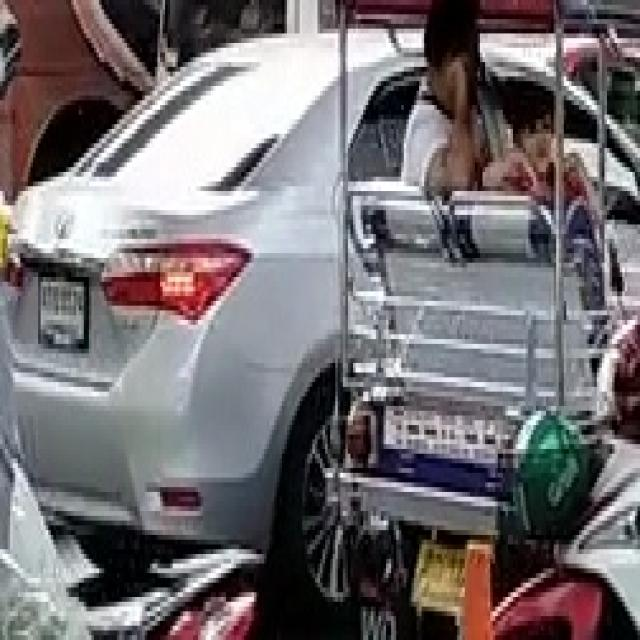helmet: (511, 406, 589, 540), (594, 315, 638, 435)
tyre: (269, 358, 361, 616)
